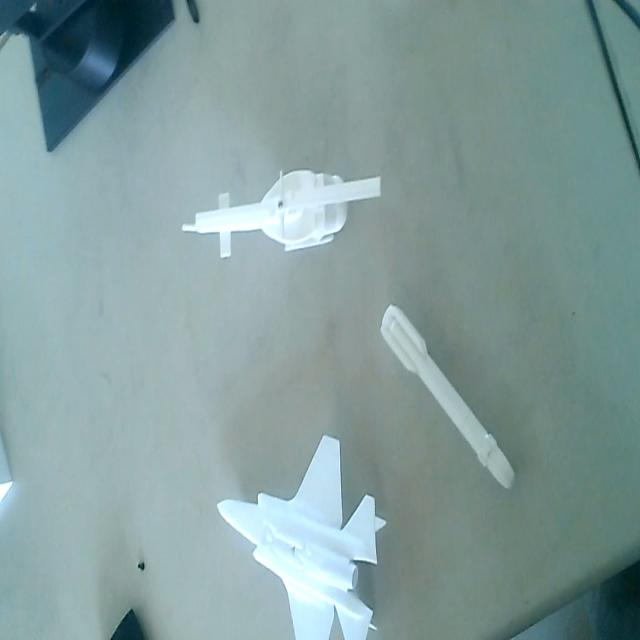Helicopter: (177, 162, 383, 260)
Jet: (216, 430, 386, 640)
Rocket: (379, 297, 516, 493)
